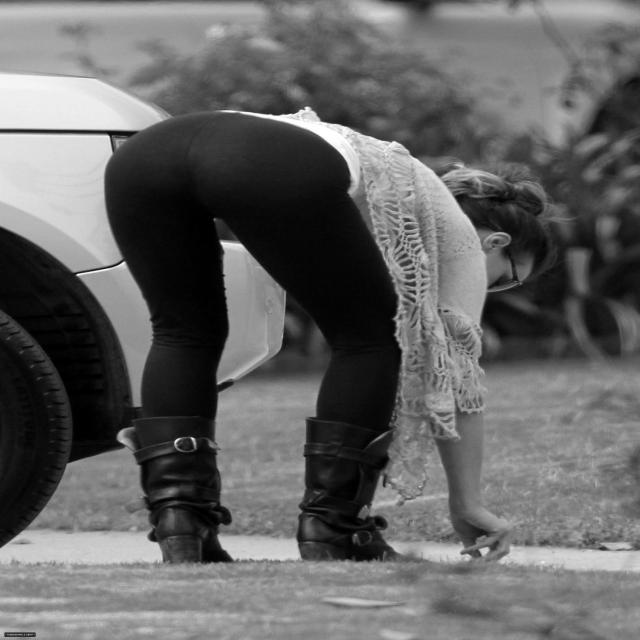stand: (82, 93, 568, 595)
